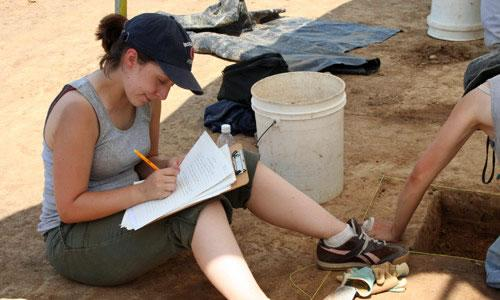person: (38, 12, 408, 299)
